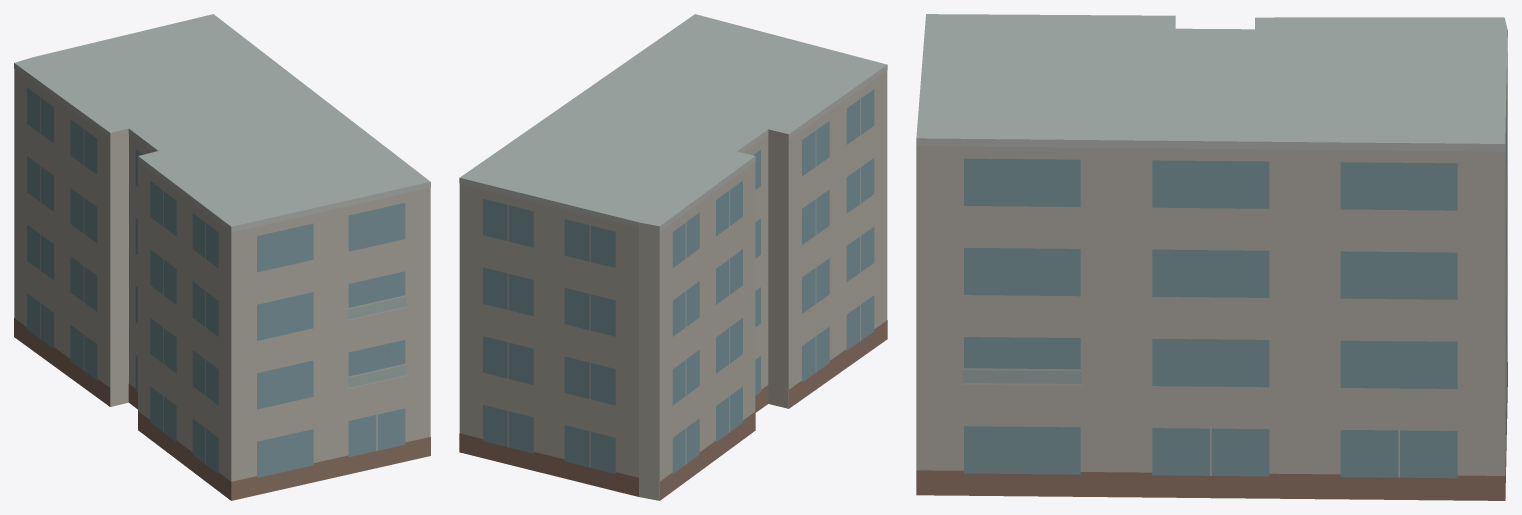
Rendered from survey-upis-32984975.glb.
The picture shows the model from 3 angles, left to right: view 1: azimuth 30°, elevation 25°; view 2: azimuth 150°, elevation 25°; view 3: azimuth 270°, elevation 25°; orthographic projection. The views are drawn at different scales.
Visible parts, largest first — view 1: survey-upis-32984975.tmp; view 2: survey-upis-32984975.tmp; view 3: survey-upis-32984975.tmp.
Boxes of the visible parts, x1,y1,x2,y2 form: survey-upis-32984975.tmp: (14,14,430,500); survey-upis-32984975.tmp: (459,14,887,500); survey-upis-32984975.tmp: (916,14,1507,500).
Size of the model in its own units: 9.07 by 11.6 by 17.43.
